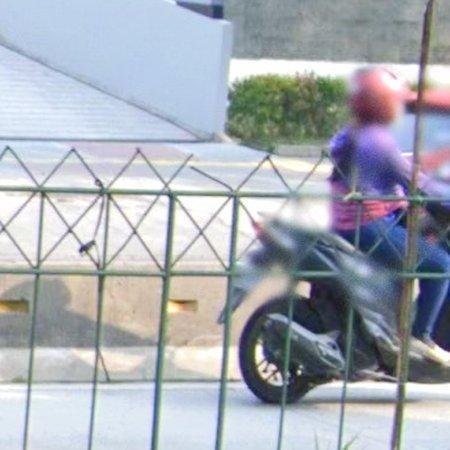motorcycles: (233, 219, 401, 404), (410, 338, 450, 383)
